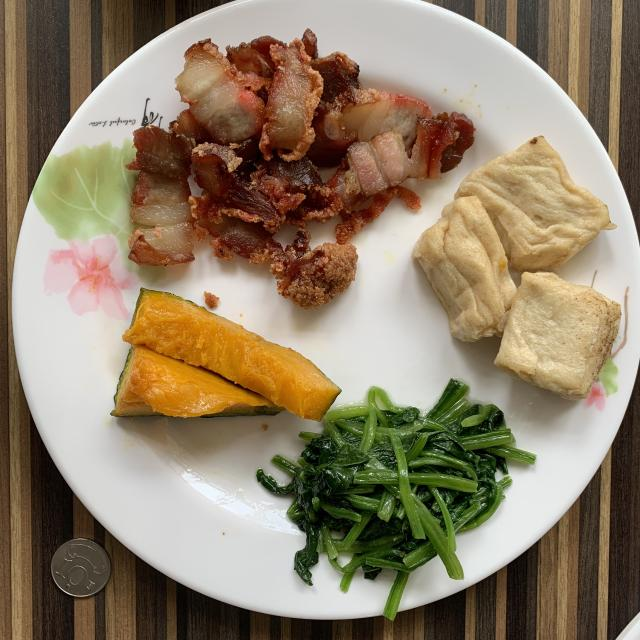coin: (51, 539, 110, 598)
creamy tofu -without sauce-: (412, 136, 621, 400)
mustard greens: (256, 379, 535, 619)
pumpkin: (111, 289, 340, 420)
red grilled pork: (130, 30, 474, 308)
